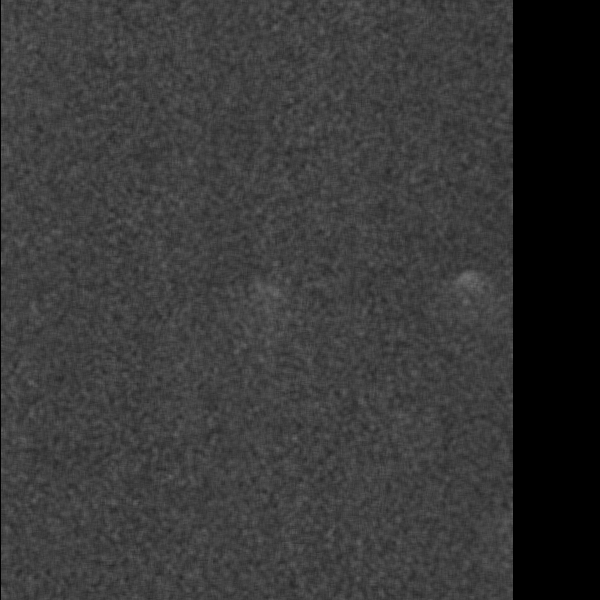spark: (444, 33, 480, 60)
